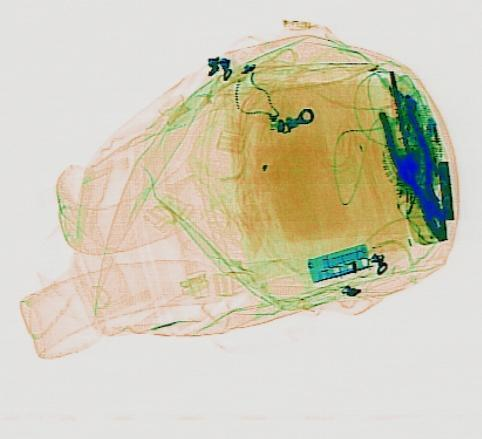Pliers: (369, 92, 462, 245)
